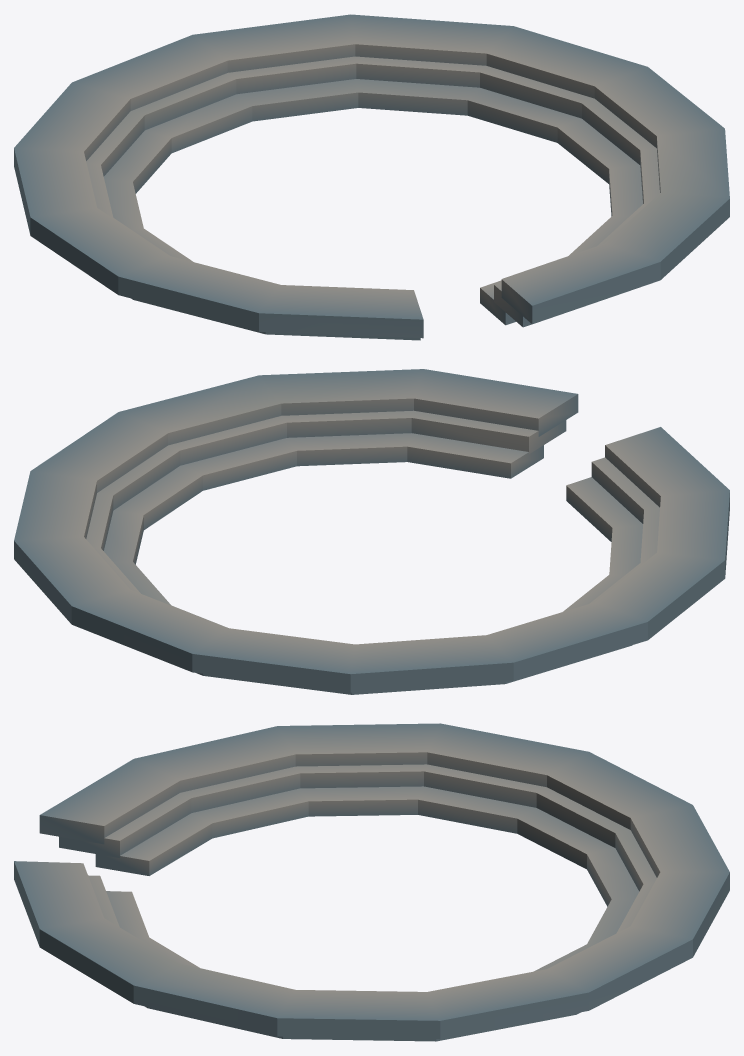
The model's file is stadiumseats.fbx.
The picture shows the model from 3 angles, top to bottom: view 1: azimuth 30°, elevation 25°; view 2: azimuth 150°, elevation 25°; view 3: azimuth 270°, elevation 25°; orthographic projection.
Visible parts, largest first — view 1: Cube.002; view 2: Cube.002; view 3: Cube.002.
Boxes of the visible parts, x1,y1,x2,y2 form: Cube.002: [14, 14, 729, 340]; Cube.002: [14, 369, 729, 694]; Cube.002: [14, 723, 729, 1041].
Bounding box in the file's own units: 2327 × 154 × 2368.
